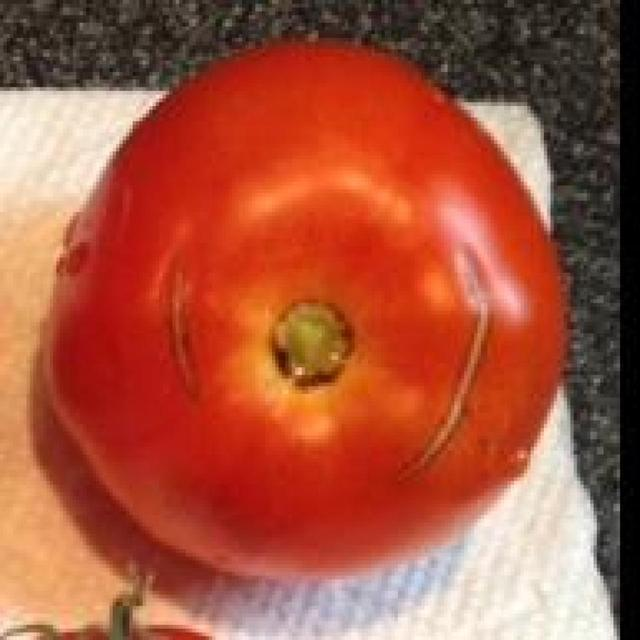Cracking Fruit: (48, 140, 298, 240)
